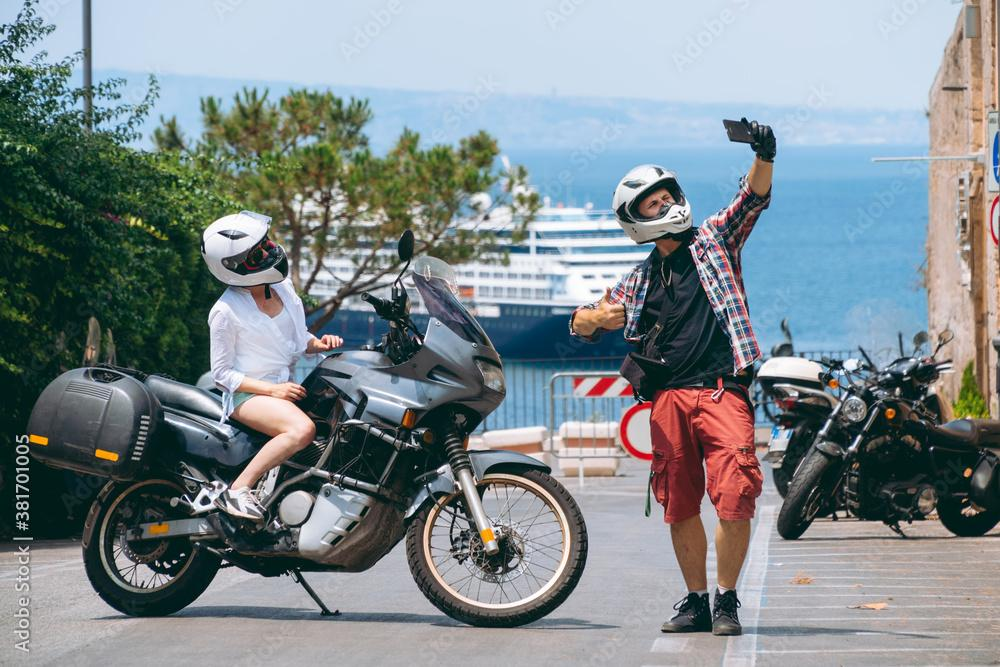helmet: (200, 209, 289, 288), (611, 163, 694, 246)
